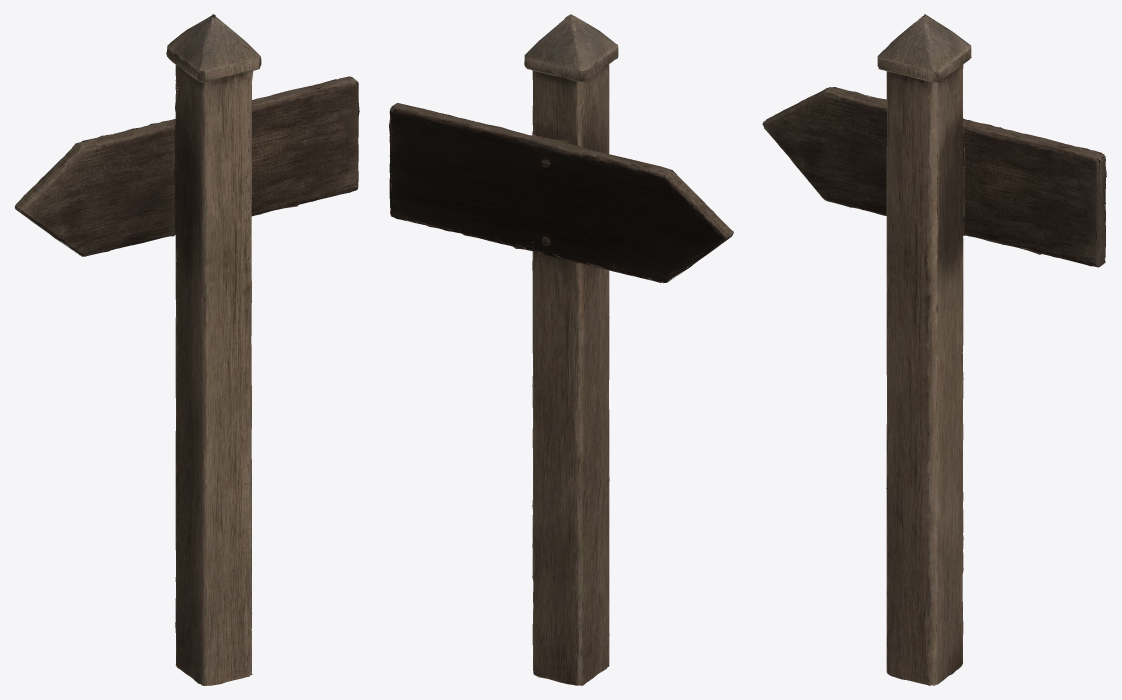
File: signpost.glb
3 renders of one model, left to right at view 1: azimuth 30°, elevation 25°; view 2: azimuth 150°, elevation 25°; view 3: azimuth 330°, elevation 25°, orthographic.
Parts seen in each view (by area): view 1: Mesh_0; view 2: Mesh_0; view 3: Mesh_0.
Boxes of the visible parts, box(x1,y1,x2,y2) form: Mesh_0: box(14, 14, 359, 685); Mesh_0: box(389, 14, 733, 685); Mesh_0: box(762, 14, 1106, 685).
Size of the model in its own units: 0.5421 by 1 by 0.118.
Materials: 1 (1 with a texture image).
